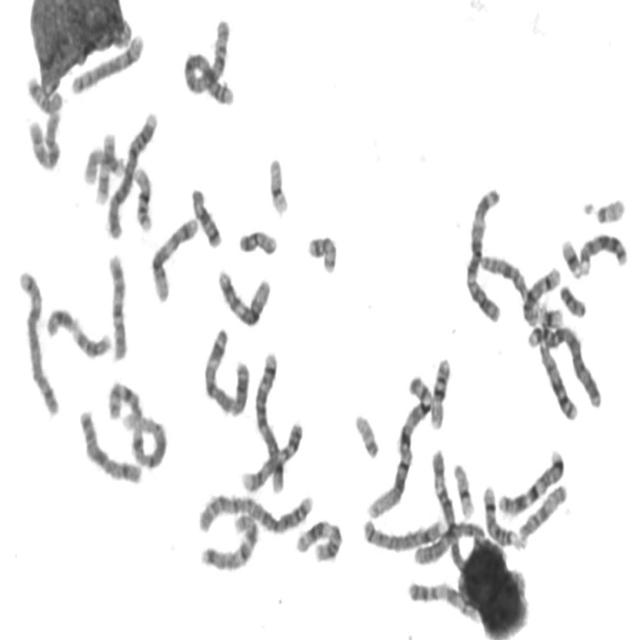A1: (364, 369, 436, 521), (104, 376, 168, 470)
A2: (193, 486, 316, 536), (180, 13, 236, 106)
A3: (462, 184, 504, 324), (200, 321, 252, 419)
B4: (104, 106, 160, 242), (524, 321, 603, 411)
B5: (15, 265, 60, 418), (252, 347, 286, 495)
C10: (104, 248, 130, 363), (25, 104, 63, 173)
C11: (43, 303, 113, 360), (292, 514, 344, 565)
C12: (147, 212, 199, 304), (214, 264, 272, 329)
C6: (429, 446, 473, 588), (411, 517, 486, 568)
C7: (494, 444, 566, 518), (196, 508, 260, 573)
C8: (67, 28, 146, 96), (359, 512, 445, 553)
C9: (238, 418, 305, 494), (404, 576, 481, 624)
D13: (536, 336, 580, 422), (575, 228, 629, 277)
D14: (480, 480, 522, 550), (520, 262, 562, 327)
D15: (480, 250, 537, 320), (515, 478, 569, 548)
E16: (427, 352, 452, 432), (130, 162, 154, 234)
E17: (91, 126, 118, 207), (80, 142, 126, 186)
E18: (188, 183, 223, 249), (24, 72, 64, 115)
F19: (265, 152, 290, 218), (449, 459, 476, 520)
F20: (303, 230, 339, 276), (235, 225, 279, 258)
G21: (558, 233, 584, 280), (535, 300, 565, 329)
G22: (351, 408, 381, 461), (581, 192, 627, 225)
X: (76, 405, 143, 486)
Y: (556, 280, 588, 320)
